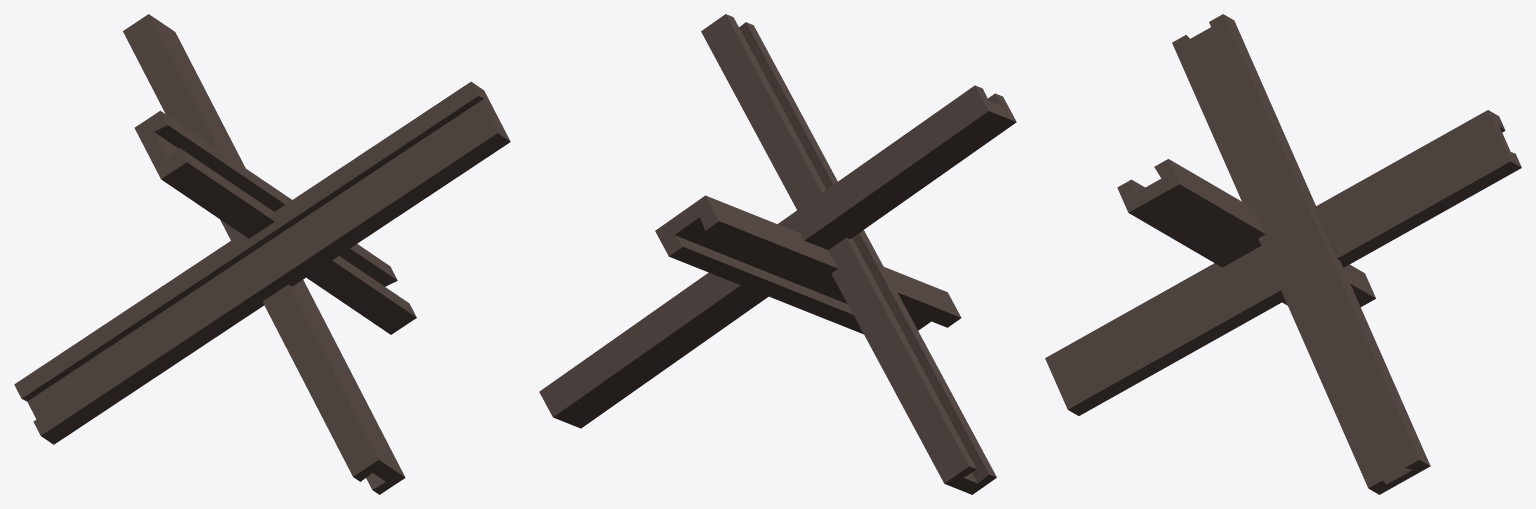
Rendered from Hedgehog_001.glb.
The picture shows the model from 3 angles, left to right: view 1: azimuth 30°, elevation 25°; view 2: azimuth 150°, elevation 25°; view 3: azimuth 270°, elevation 25°; orthographic projection. The views are drawn at different scales.
Visible parts, largest first — view 1: Hedgehog_001; view 2: Hedgehog_001; view 3: Hedgehog_001.
Part boxes in pixels (x1=…): Hedgehog_001: x1=14, y1=14, x2=510, y2=494; Hedgehog_001: x1=539, y1=14, x2=1016, y2=494; Hedgehog_001: x1=1045, y1=14, x2=1521, y2=494.
Size of the model in its own units: 1.45 by 1.23 by 1.58.
1 material, 1 textured.
